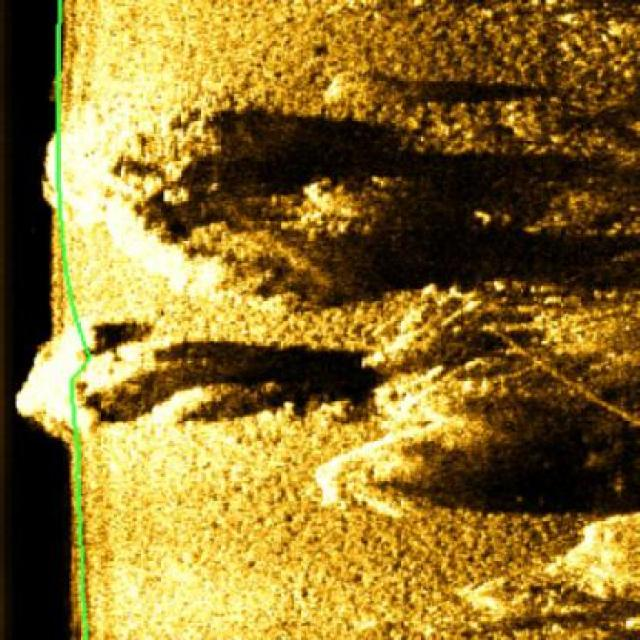bedrock group: (36, 70, 638, 616)
